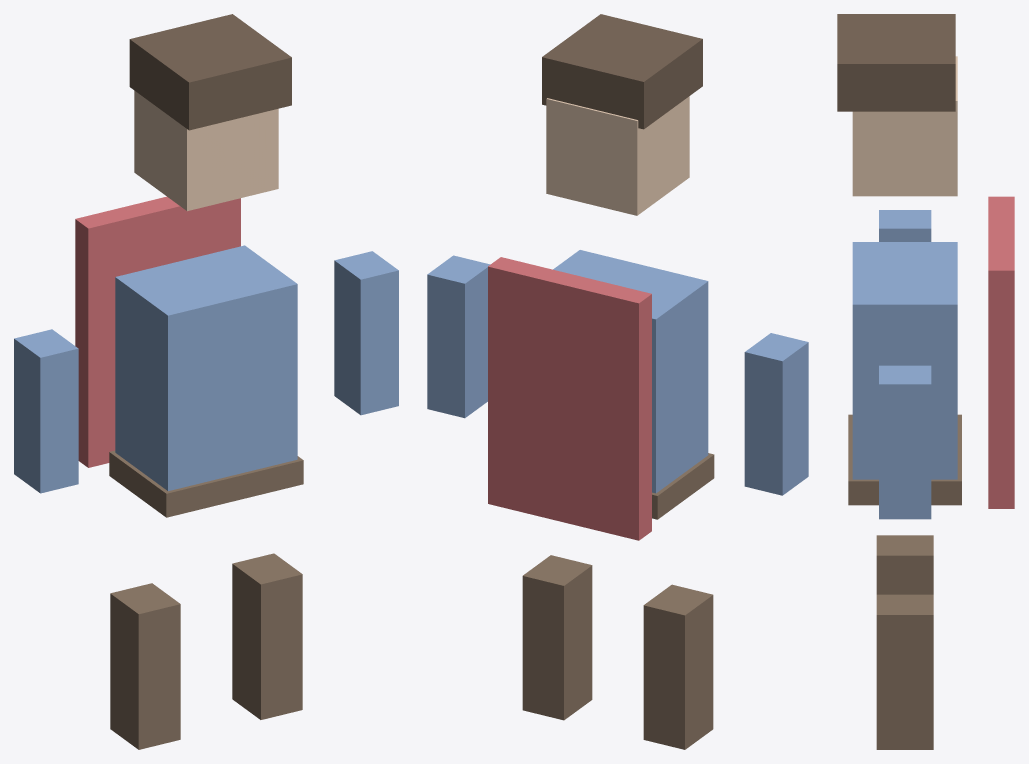
File: hero.glb
3 views of the same model, side by side, from view 1: azimuth 30°, elevation 25°; view 2: azimuth 150°, elevation 25°; view 3: azimuth 270°, elevation 25° (orthographic).
Visible parts, largest first — view 1: hero; view 2: hero; view 3: hero.
Boxes of the visible parts, bbox=[...] form: hero: bbox=[14, 14, 398, 749]; hero: bbox=[427, 14, 808, 749]; hero: bbox=[837, 14, 1014, 749].
Bounding box in the file's own units: 0.9456 × 1.7 × 0.4074.
